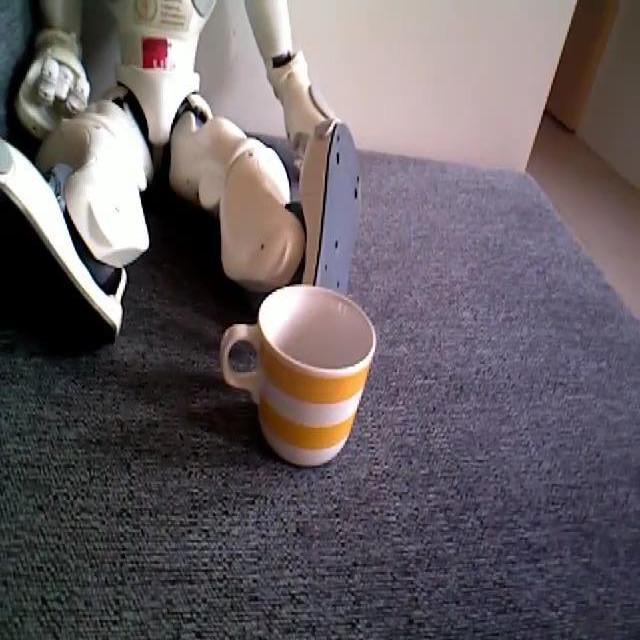cup: (222, 287, 380, 474)
